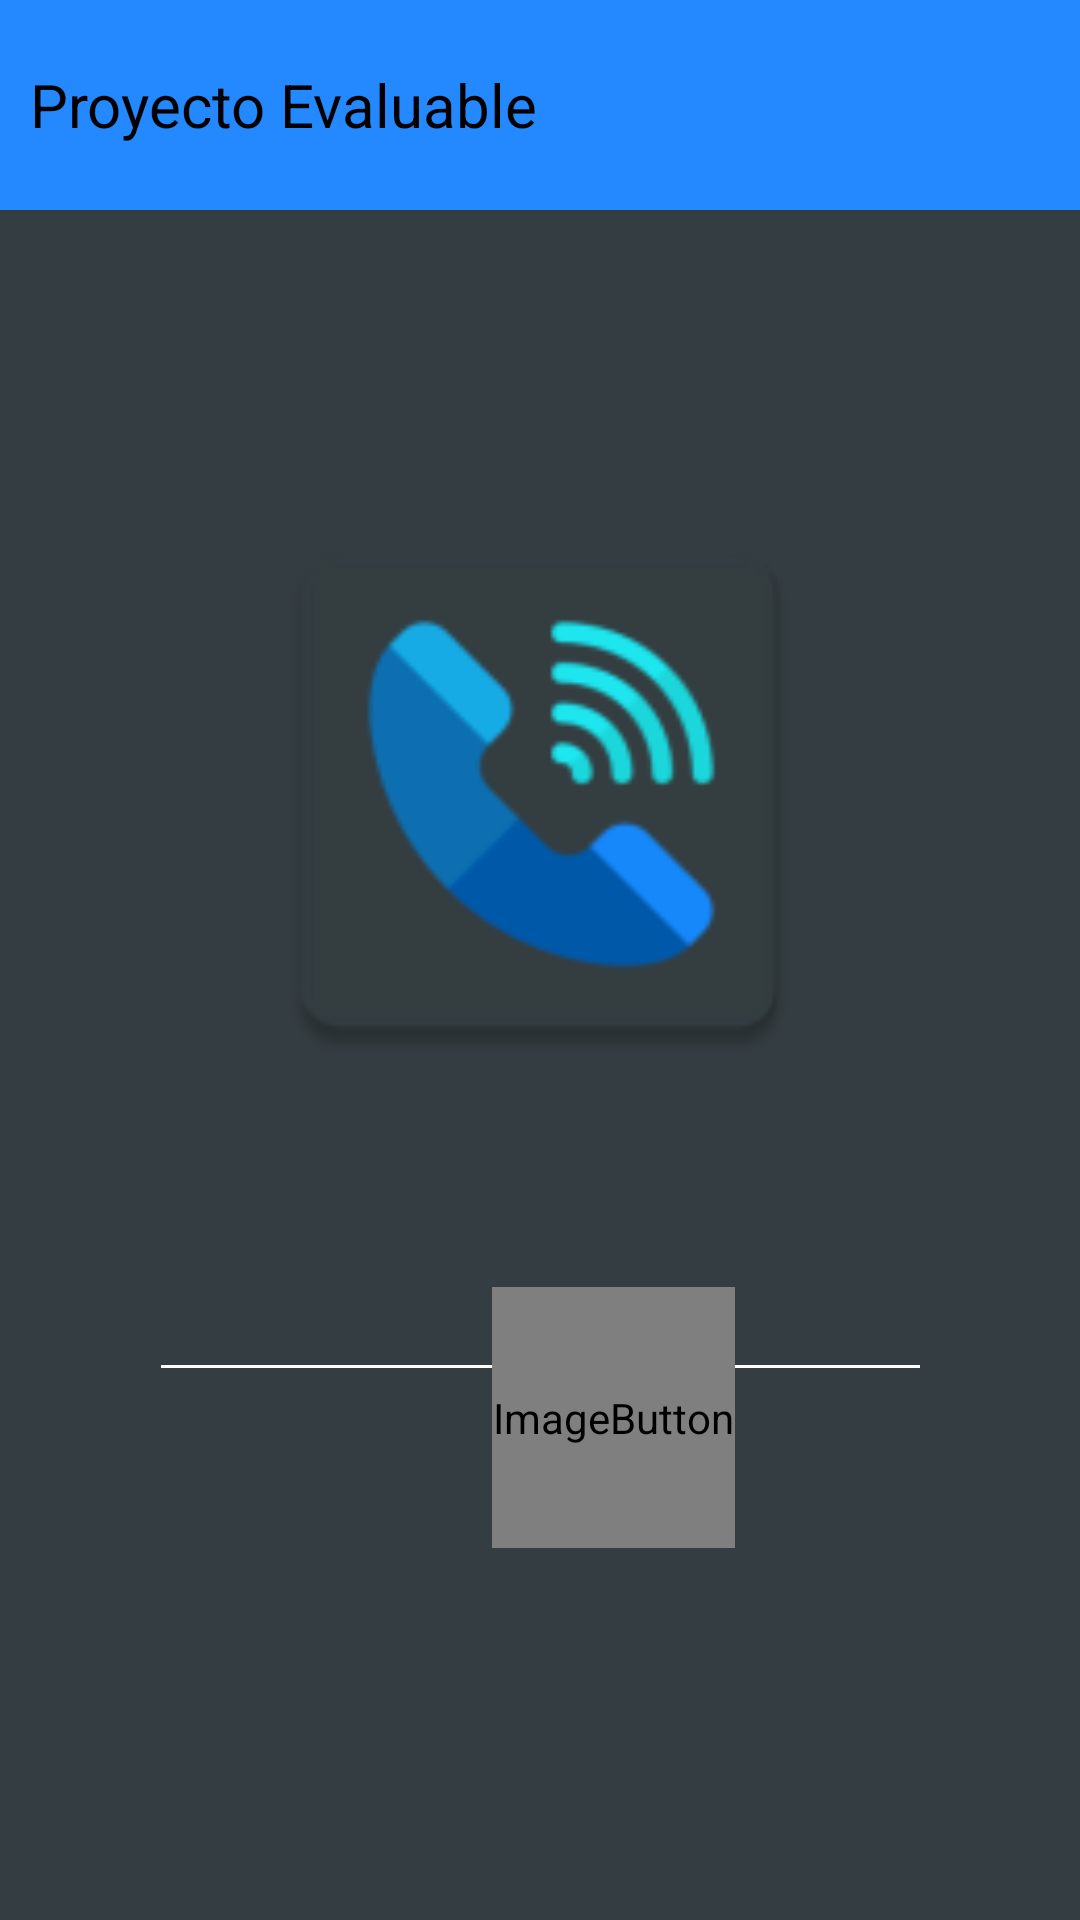

Icons on this 1080 × 1920 Android screen, each with its box as bbox=(x1, y1, x2, y2):
llamada: bbox=(367, 620, 715, 968)
